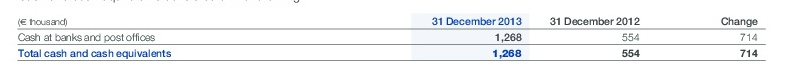table: (0, 0, 787, 73)
